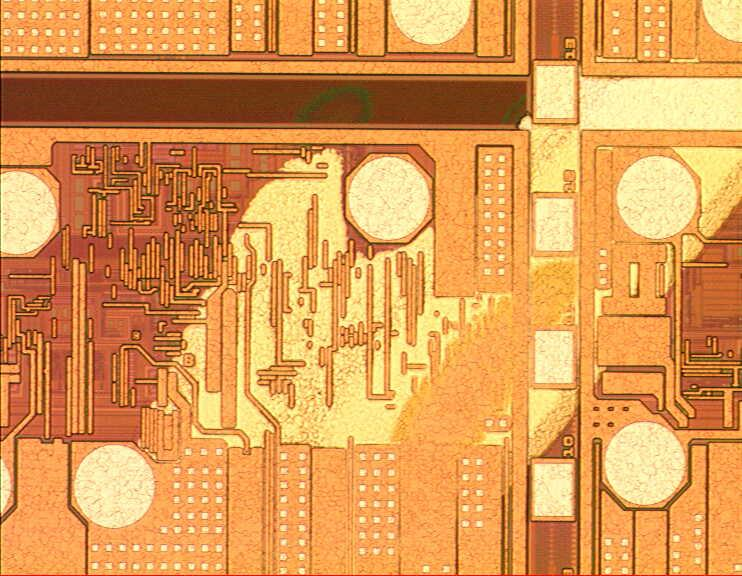BLOCK ETCH: (123, 1, 742, 530)
